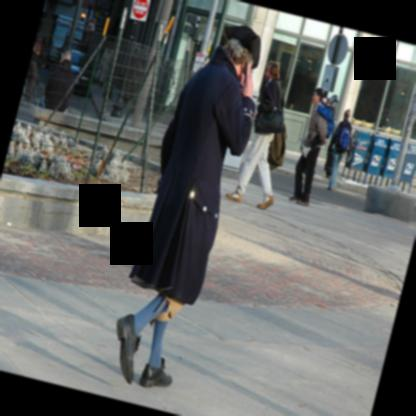backpack: (334, 122, 350, 155)
handbag: (253, 80, 284, 131)
suitcase: (325, 147, 335, 179)
